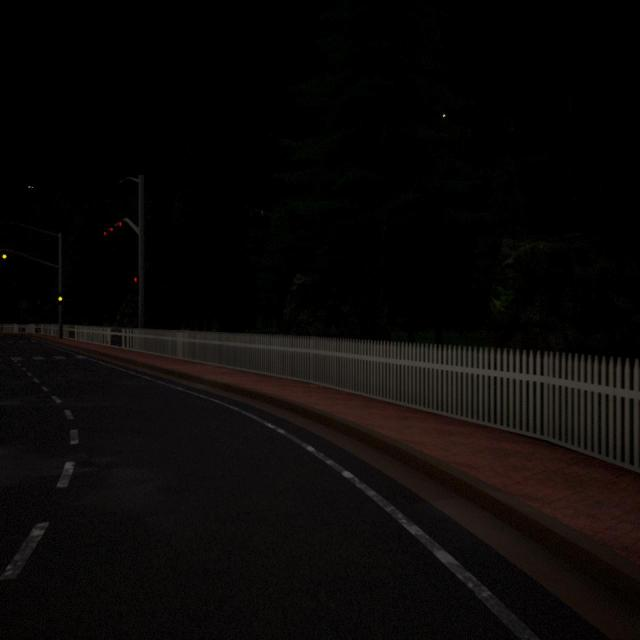traffic_light: (58, 293, 63, 305), (2, 250, 7, 262), (118, 220, 123, 228), (134, 277, 137, 282), (110, 227, 113, 232), (104, 232, 107, 236)
